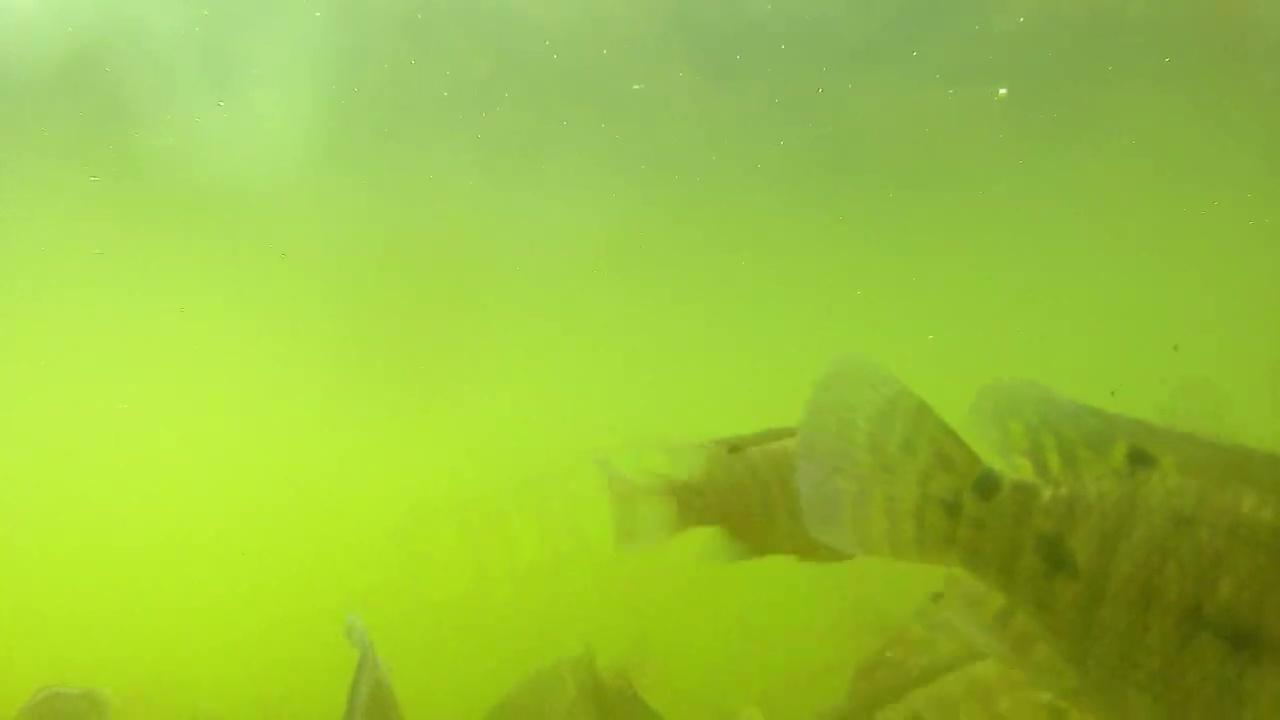Tilapia: (803, 332, 1280, 720), (605, 404, 908, 562)
